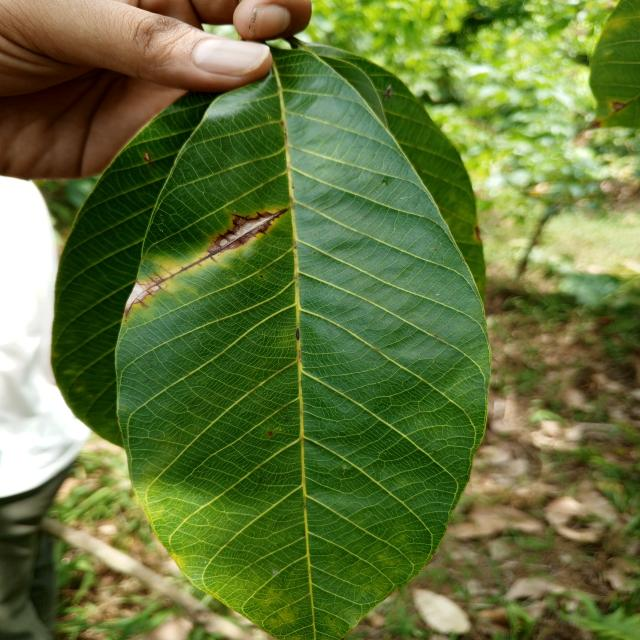Colletotrichum: (356, 617, 358, 620), (330, 618, 332, 620)
Corynespora: (206, 209, 288, 262), (148, 254, 212, 287)
Leaf-Blight: (123, 284, 153, 312)
